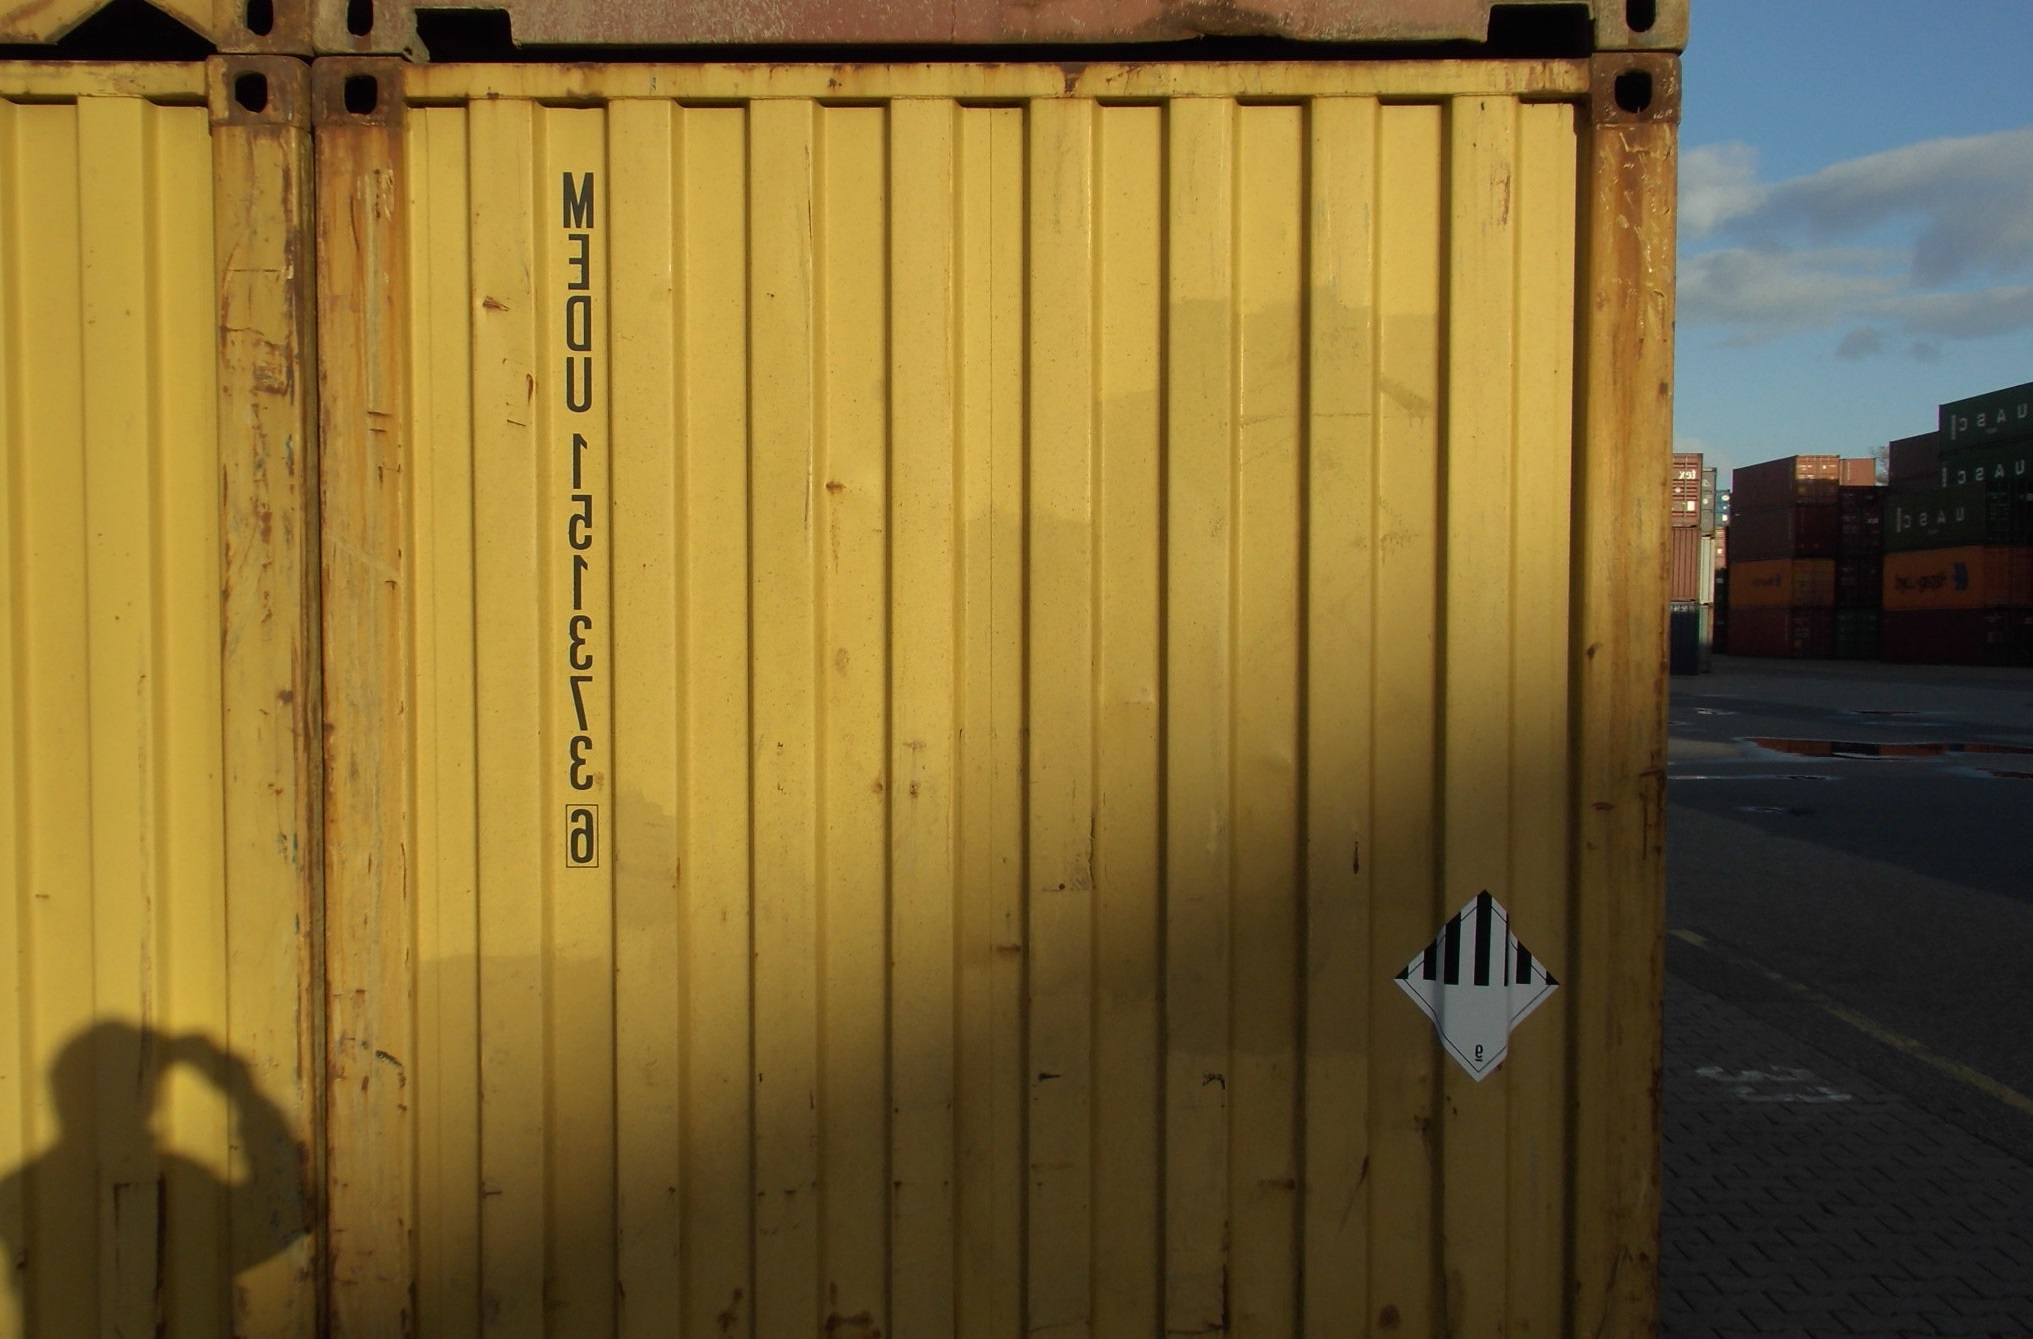container_no_door: (320, 60, 1655, 1339)
